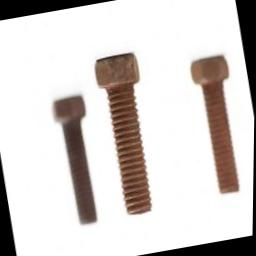Corroded-Bolt: (94, 53, 152, 214), (190, 55, 240, 195)
